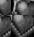heart: (11, 15, 34, 37), (0, 15, 11, 37), (0, 0, 11, 15)
